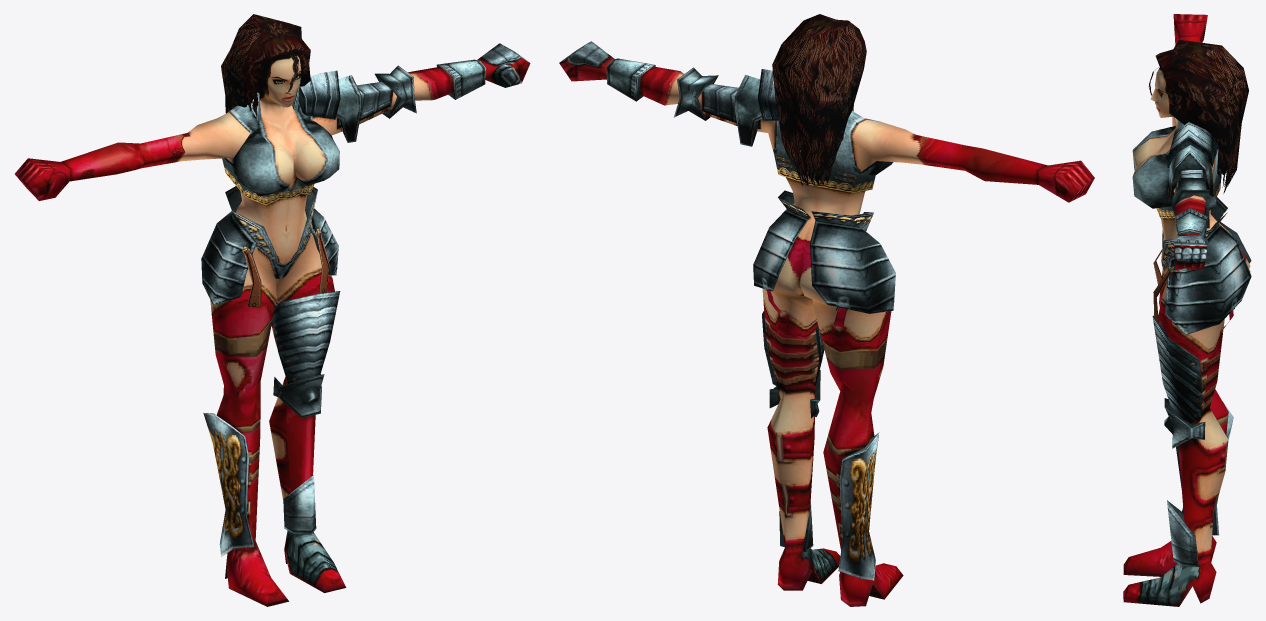
The picture shows the model from 3 angles, left to right: view 1: azimuth 30°, elevation 25°; view 2: azimuth 150°, elevation 25°; view 3: azimuth 270°, elevation 25°; orthographic projection. The views are drawn at different scales.
Parts seen in each view (by area): view 1: Di; view 2: Di; view 3: Di.
Part boxes in pixels (box(x1,y1,x2,y2)): Di: box(15, 14, 530, 606); Di: box(559, 14, 1094, 606); Di: box(1123, 14, 1251, 606).
Size of the model in its own units: 187 by 197 by 42.39.
